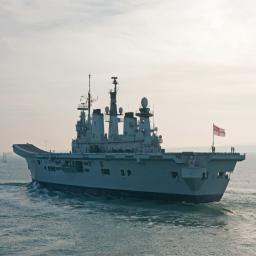Portanaves: (13, 71, 249, 206)
